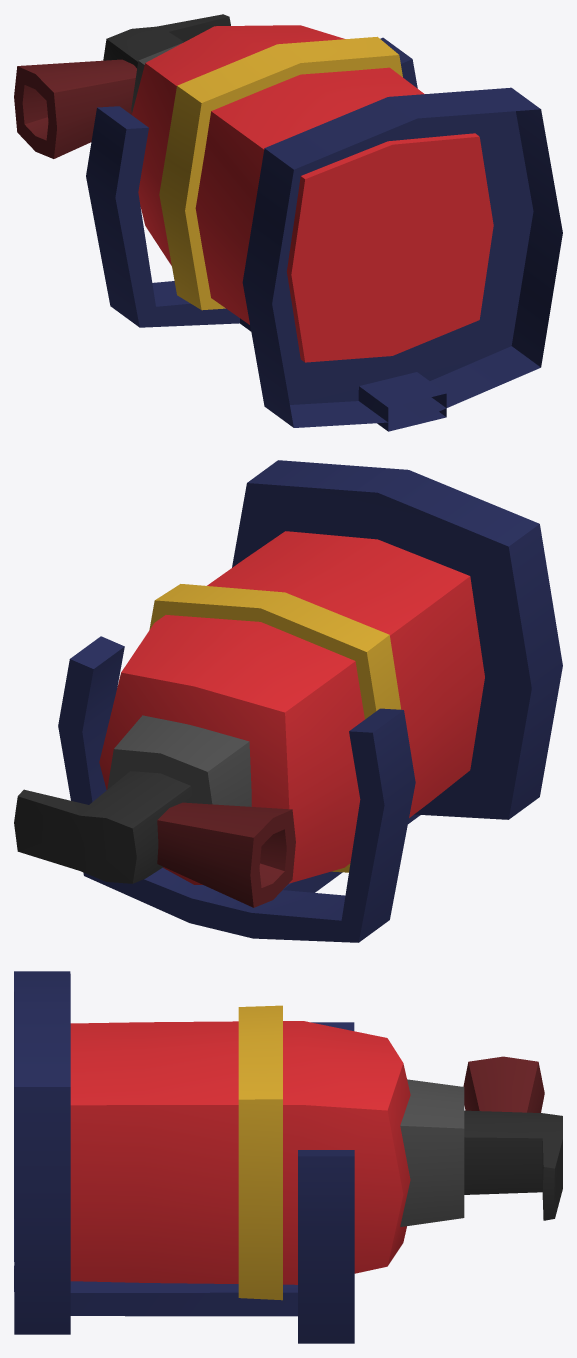
The model's file is Fire Extinguisher 01.FBX.
The picture shows the model from 3 angles, top to bottom: view 1: azimuth 30°, elevation 25°; view 2: azimuth 150°, elevation 25°; view 3: azimuth 270°, elevation 25°; orthographic projection. The views are drawn at different scales.
Parts seen in each view (by area): view 1: Fire Extinguisher 01, Fire Extinguisher Stand 01; view 2: Fire Extinguisher 01, Fire Extinguisher Stand 01; view 3: Fire Extinguisher 01, Fire Extinguisher Stand 01.
Part boxes in pixels (x1,y1,x2,y2): Fire Extinguisher 01: (14, 14, 493, 362); Fire Extinguisher Stand 01: (86, 37, 562, 431); Fire Extinguisher 01: (14, 531, 484, 907); Fire Extinguisher Stand 01: (58, 460, 562, 942); Fire Extinguisher 01: (70, 1005, 562, 1300); Fire Extinguisher Stand 01: (14, 971, 354, 1343).
Bounding box in the file's own units: 66.21 × 62.77 × 106.
1 material, 1 textured.
